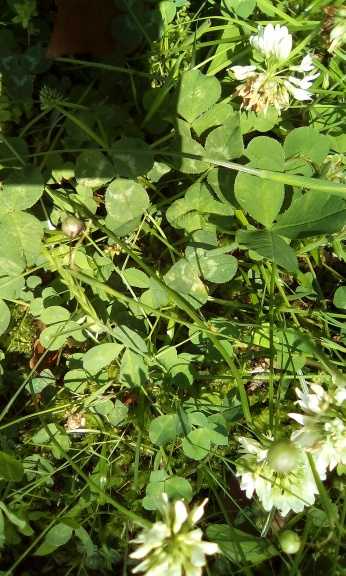4leaf: (165, 182, 235, 247)
